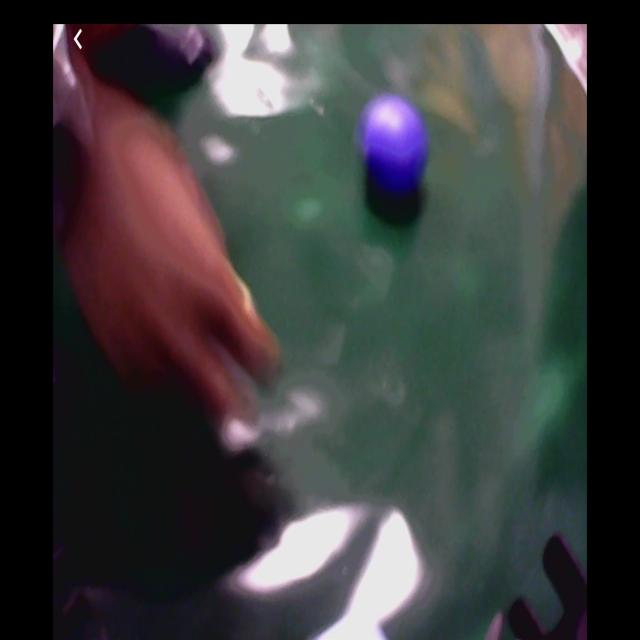ball: (362, 95, 429, 199)
